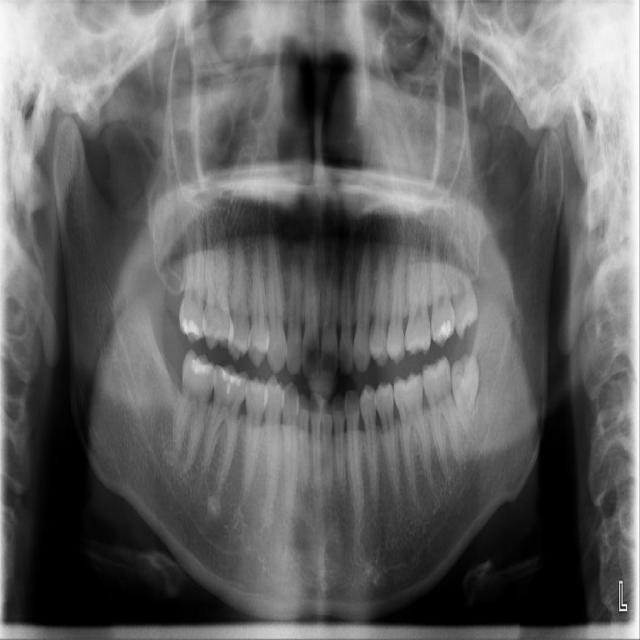Filling: (219, 369, 244, 393), (181, 320, 202, 340), (188, 358, 212, 375), (438, 320, 450, 340)
impacted tooth: (450, 354, 484, 441)
